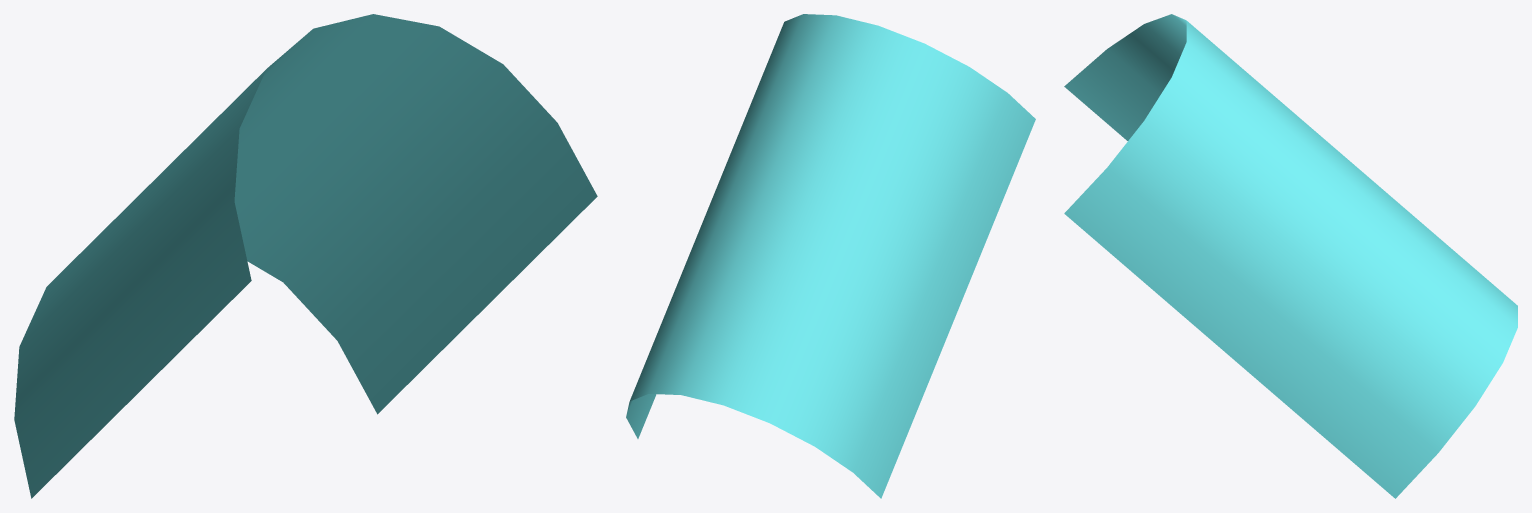
Rendered from Glass.fbx.
The picture shows the model from 3 angles, left to right: view 1: azimuth 30°, elevation 25°; view 2: azimuth 150°, elevation 25°; view 3: azimuth 270°, elevation 25°; orthographic projection. The views are drawn at different scales.
Visible parts, largest first — view 1: Glass; view 2: Glass; view 3: Glass.
Boxes of the visible parts, box(x1,y1,x2,y2) form: Glass: box(14, 14, 597, 498); Glass: box(626, 14, 1035, 498); Glass: box(1064, 14, 1517, 498).
Size of the model in its own units: 2.66 by 3.95 by 4.02.
